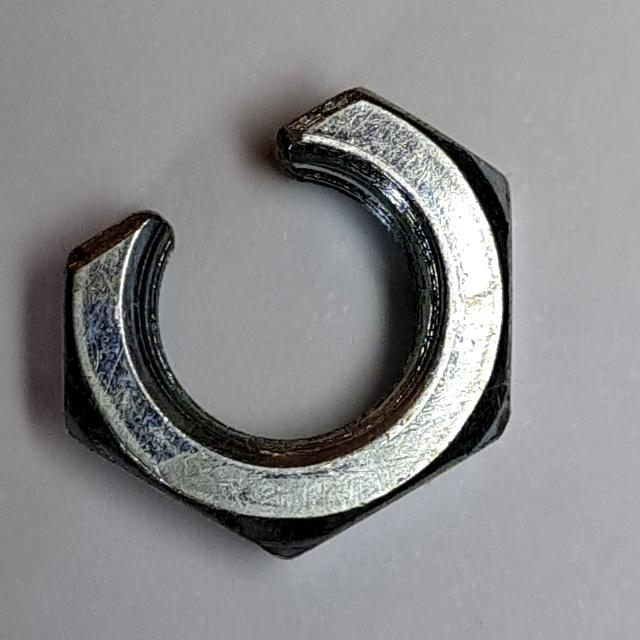Fracture: (49, 76, 525, 578)
